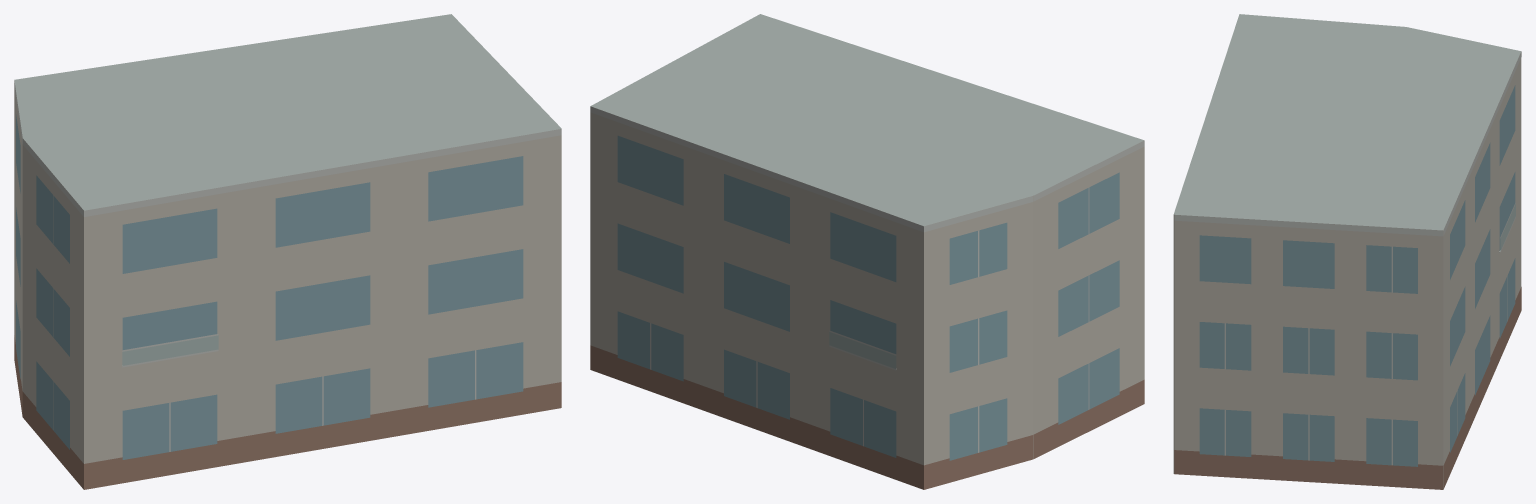
The model's file is survey-upis-32617425.glb.
3 views of the same model, side by side, from view 1: azimuth 30°, elevation 25°; view 2: azimuth 150°, elevation 25°; view 3: azimuth 270°, elevation 25° (orthographic). The views are drawn at different scales.
Parts seen in each view (by area): view 1: survey-upis-32617425.tmp; view 2: survey-upis-32617425.tmp; view 3: survey-upis-32617425.tmp.
Boxes of the visible parts, left/top/right/bottom form: survey-upis-32617425.tmp: left=14, top=14, right=561, bottom=489; survey-upis-32617425.tmp: left=590, top=14, right=1144, bottom=489; survey-upis-32617425.tmp: left=1173, top=14, right=1521, bottom=489.
Size of the model in its own units: 18.98 by 10.6 by 12.89.
